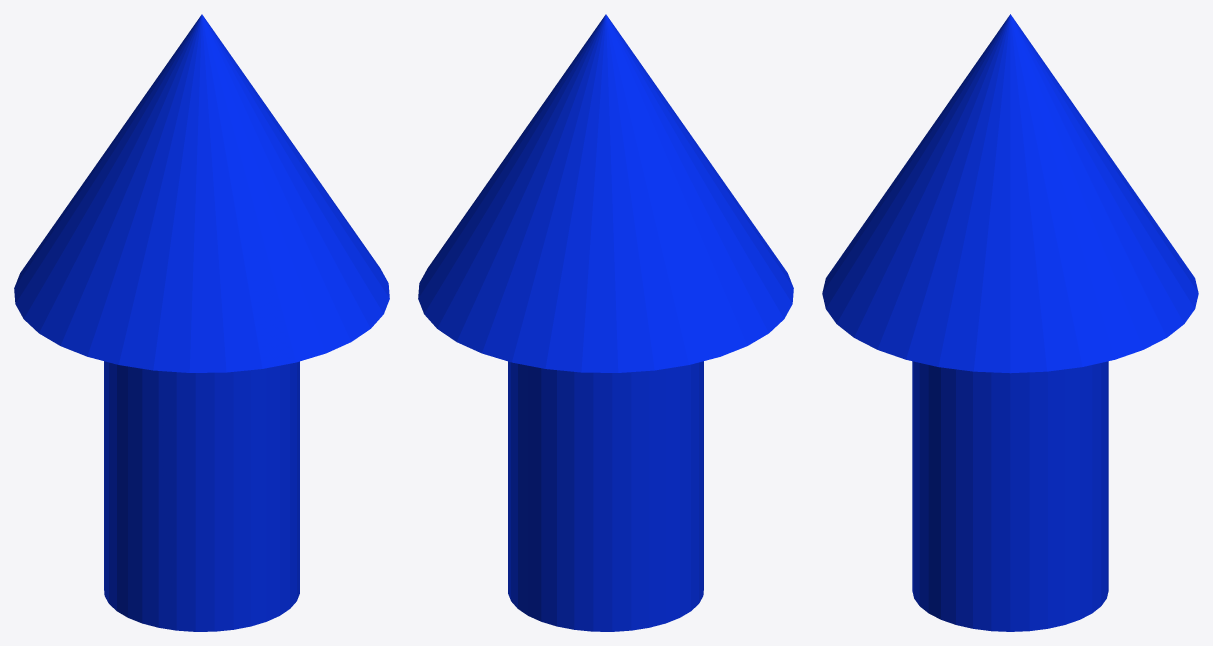
File: Arrow_Blue_v1.glb
The picture shows the model from 3 angles, left to right: view 1: azimuth 30°, elevation 25°; view 2: azimuth 150°, elevation 25°; view 3: azimuth 270°, elevation 25°; orthographic projection.
Parts seen in each view (by area): view 1: Arrow; view 2: Arrow; view 3: Arrow.
Boxes of the visible parts, x1=… form: Arrow: x1=14, y1=14, x2=389, y2=631; Arrow: x1=418, y1=14, x2=793, y2=631; Arrow: x1=822, y1=14, x2=1198, y2=631.
Size of the model in its own units: 2.3 by 3.88 by 2.3.
